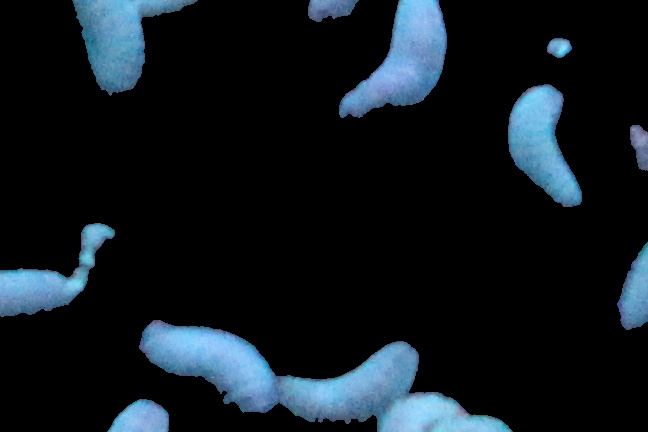larvae: (336, 1, 443, 134), (139, 318, 281, 414), (280, 339, 421, 427), (503, 80, 585, 212), (70, 1, 150, 96), (1, 261, 63, 321)
